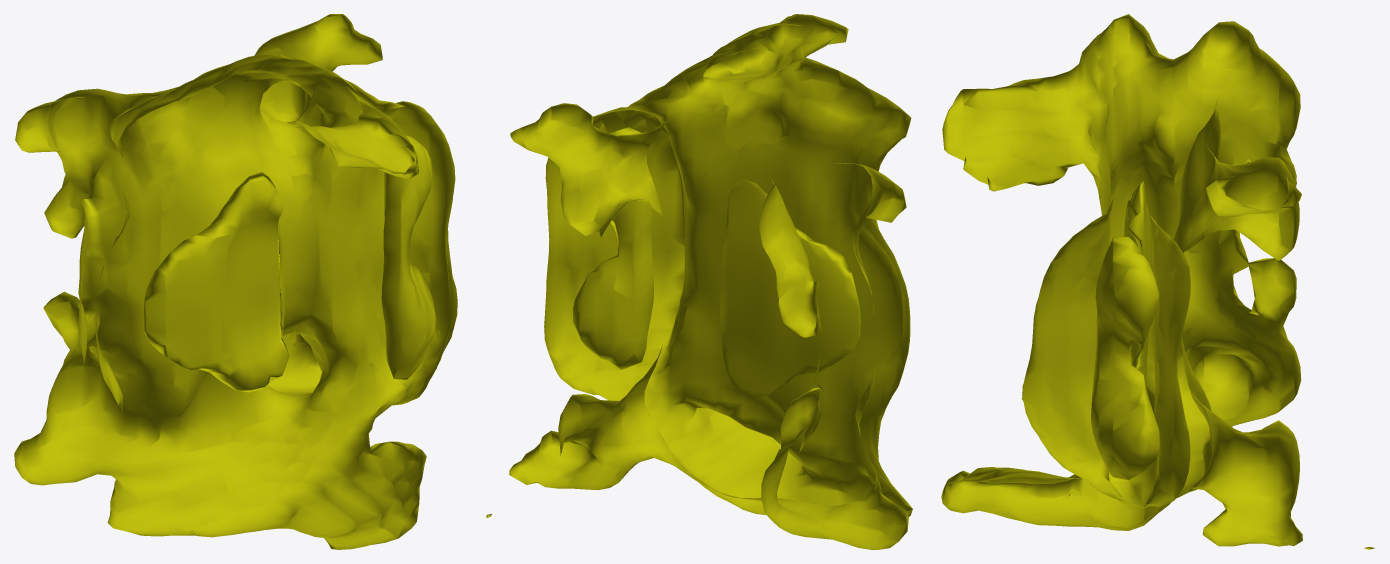
3 renders of one model, left to right at view 1: azimuth 30°, elevation 25°; view 2: azimuth 150°, elevation 25°; view 3: azimuth 270°, elevation 25°, orthographic.
Parts seen in each view (by area): view 1: world; view 2: world; view 3: world.
Boxes of the visible parts, bbox=[...] form: world: bbox=[14, 14, 457, 549]; world: bbox=[486, 14, 912, 549]; world: bbox=[941, 14, 1374, 549].
Size of the model in its own units: 30.45 by 34.11 by 28.93.
